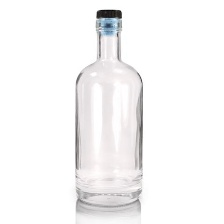bottle: (71, 7, 149, 212)
